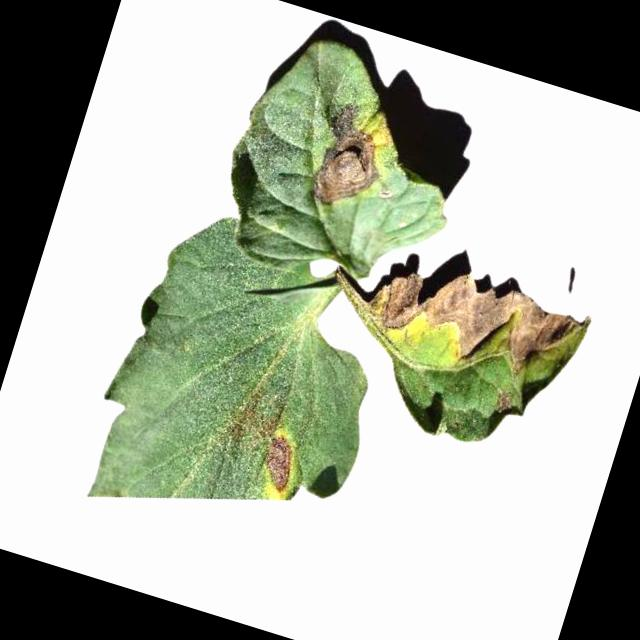Early_blight: (360, 250, 587, 397), (296, 95, 400, 219), (254, 432, 303, 497), (491, 392, 517, 418)
